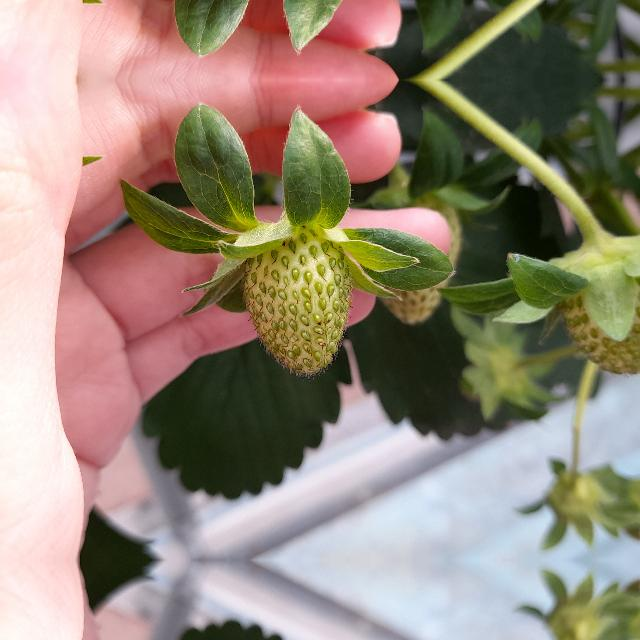Health_25: (243, 228, 354, 380), (563, 238, 639, 374)
